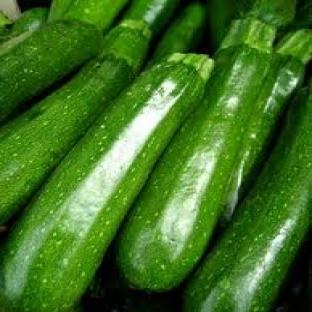Zucchini: (0, 54, 212, 310), (118, 21, 275, 291), (0, 21, 149, 224), (185, 95, 311, 311), (221, 30, 311, 225), (0, 21, 102, 122), (152, 2, 207, 62), (279, 2, 311, 37), (10, 8, 48, 35), (0, 11, 12, 44)
